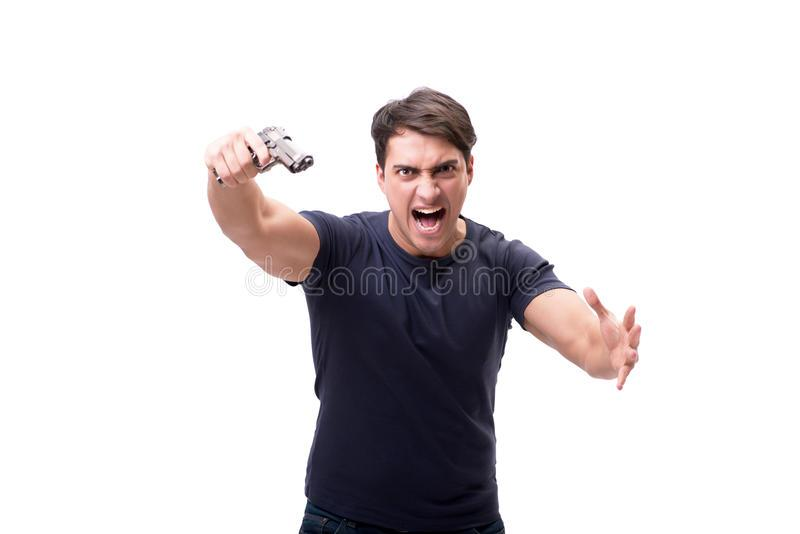criminal: (207, 88, 643, 534)
weapon: (208, 122, 314, 189)
